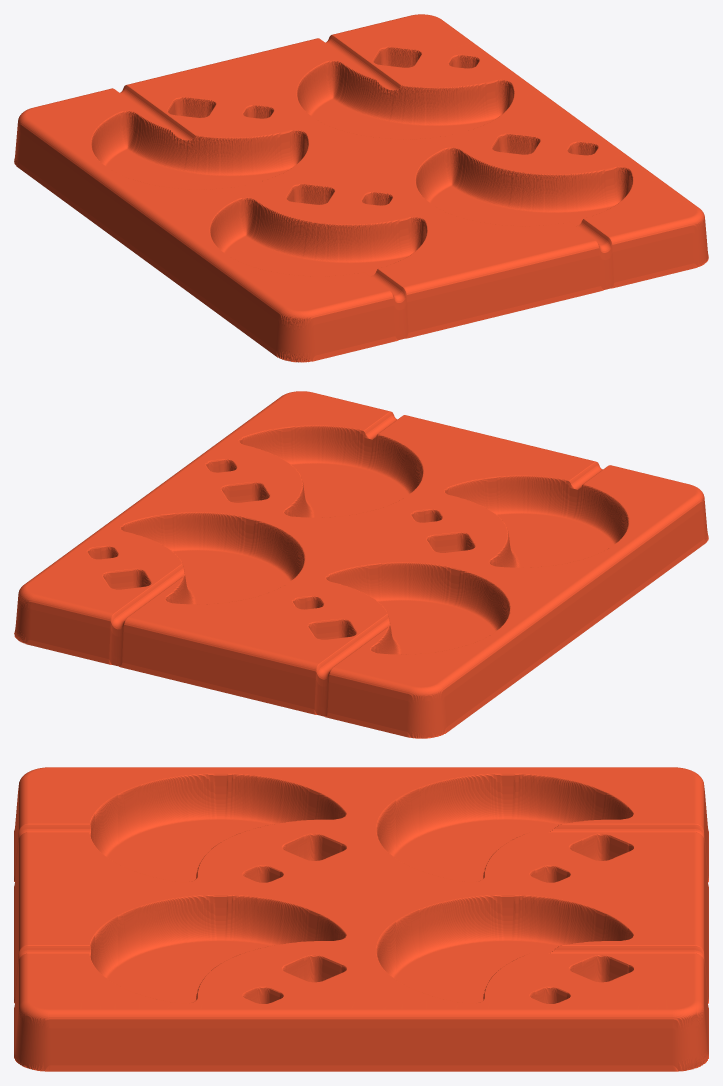
The model's file is mold.glb.
The picture shows the model from 3 angles, top to bottom: view 1: azimuth 30°, elevation 25°; view 2: azimuth 150°, elevation 25°; view 3: azimuth 270°, elevation 25°; orthographic projection. The views are drawn at different scales.
Parts seen in each view (by area): view 1: geometry_0; view 2: geometry_0; view 3: geometry_0.
Part boxes in pixels (x1,y1,x2,y2): geometry_0: [14, 14, 708, 362]; geometry_0: [14, 391, 708, 738]; geometry_0: [14, 767, 708, 1071].
Size of the model in its own units: 0.1497 by 0.0155 by 0.1735.
